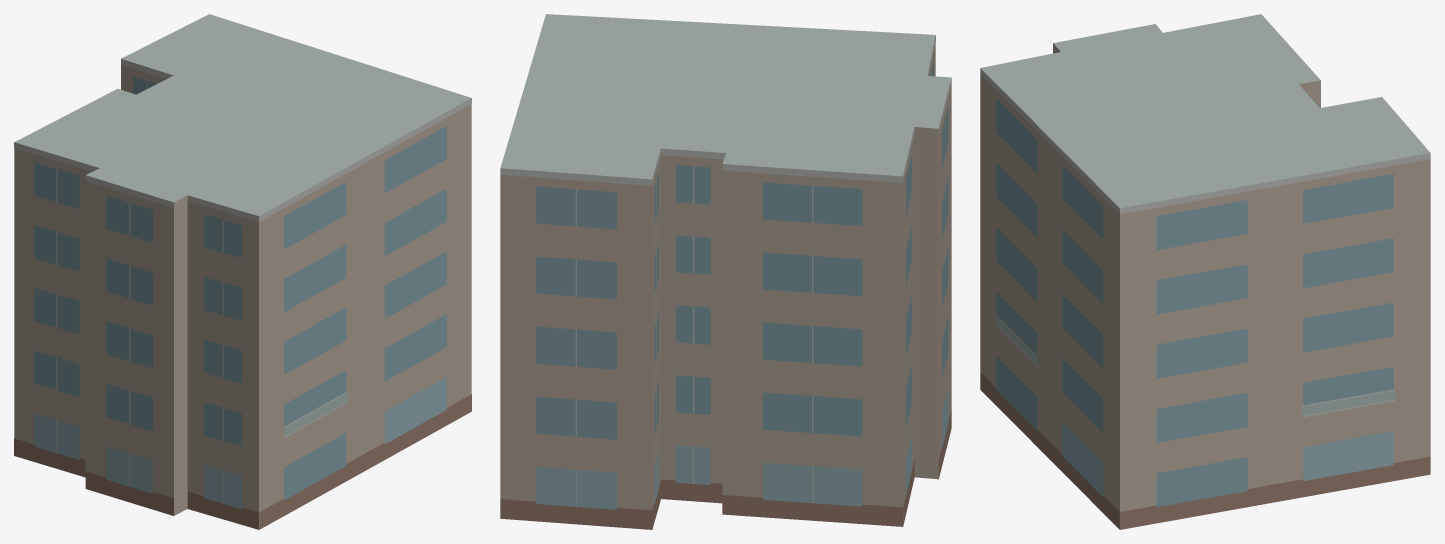
Rendered from survey-upis-32912281.glb.
3 views of the same model, side by side, from view 1: azimuth 30°, elevation 25°; view 2: azimuth 150°, elevation 25°; view 3: azimuth 270°, elevation 25° (orthographic). The views are drawn at different scales.
Parts seen in each view (by area): view 1: survey-upis-32912281.tmp; view 2: survey-upis-32912281.tmp; view 3: survey-upis-32912281.tmp.
Boxes of the visible parts, left/top/right/bottom form: survey-upis-32912281.tmp: left=14, top=14, right=471, bottom=529; survey-upis-32912281.tmp: left=500, top=14, right=951, bottom=529; survey-upis-32912281.tmp: left=980, top=14, right=1430, bottom=529.
Bounding box in the file's own units: 16.86 × 13 × 16.51.
